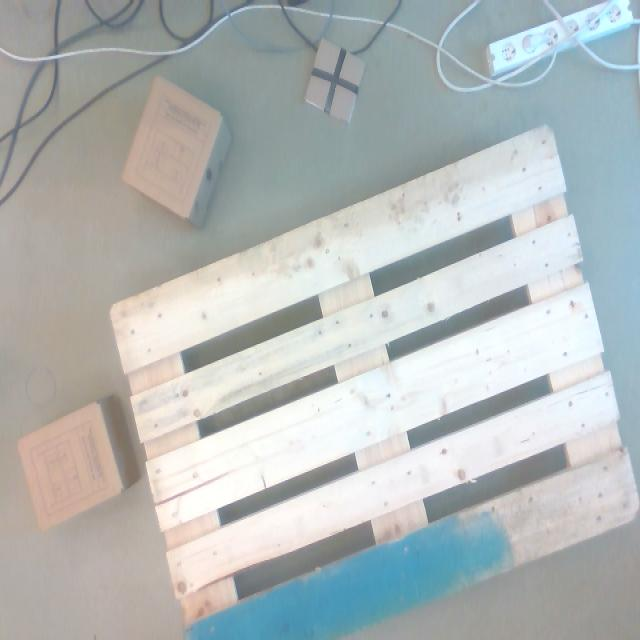pallet: (112, 127, 638, 638)
